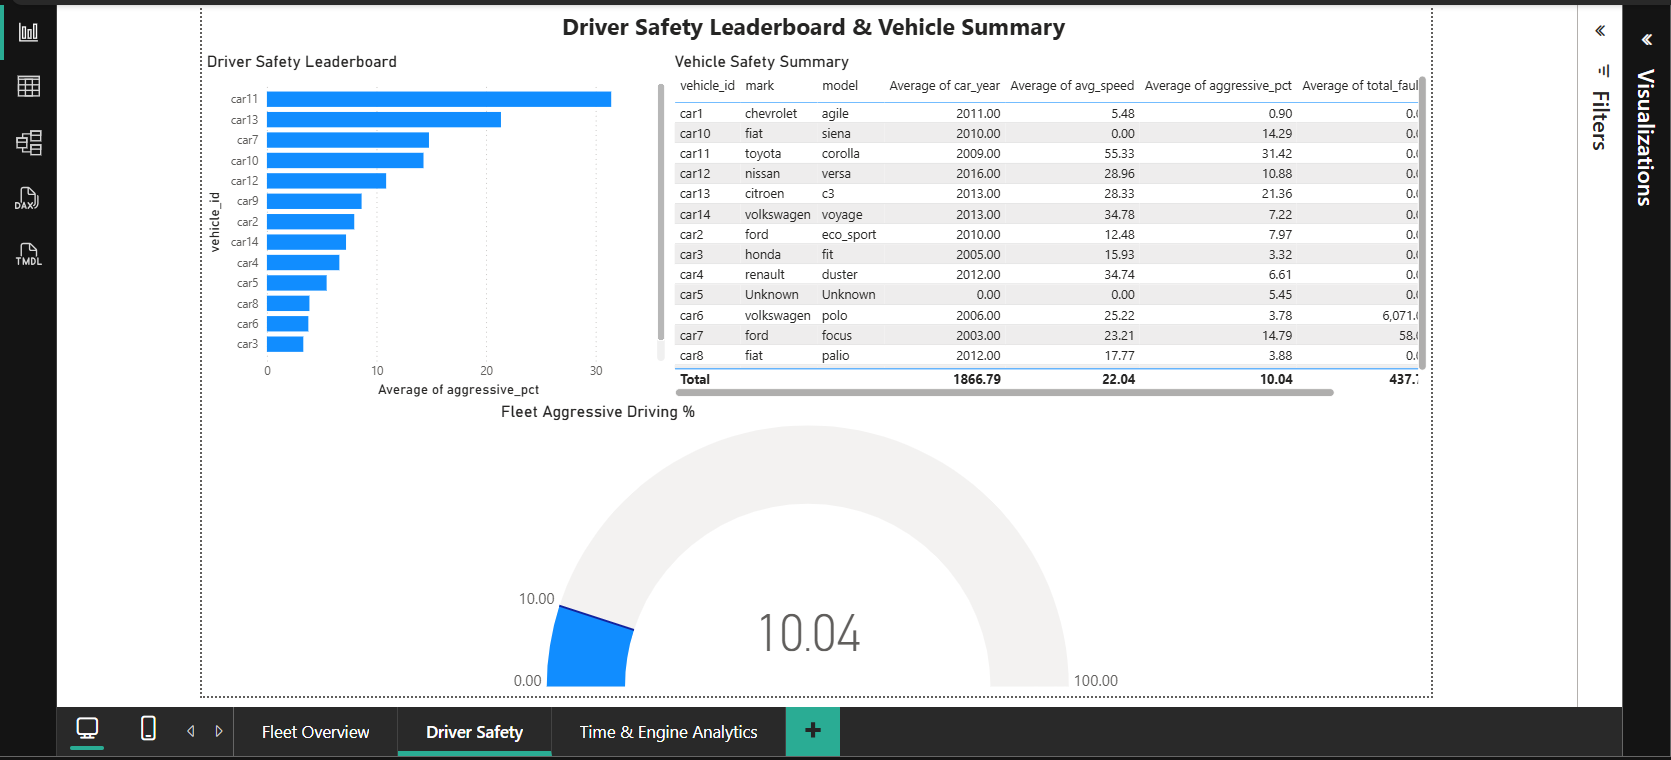

Layout of this report page (visuals, bound fields, positions):
{"tool":"powerbi","page":{"name":"Driver Safety","canvas":[1280,720],"ordinal":1},"visuals":[{"type":"clusteredBarChart","title":"Driver Safety Leaderboard","fields":{"Category":["obd_driver_db driver_safety_summary.vehicle_id"],"Y":["Avg(obd_driver_db driver_safety_summary.aggressive_pct)"]},"box":[0,49.1,487.1,364.2],"z":0},{"type":"tableEx","title":"Vehicle Safety Summary","fields":{"Values":["obd_driver_db driver_safety_summary.vehicle_id","obd_driver_db driver_safety_summary.mark","obd_driver_db driver_safety_summary.model","Avg(obd_driver_db driver_safety_summary.car_year)","Avg(obd_driver_db driver_safety_summary.avg_speed)","Avg(obd_driver_db driver_safety_summary.aggressive_pct)","Avg(obd_driver_db driver_safety_summary.total_faults)","obd_driver_db driver_safety_summary.safety_label"]},"box":[487.1,49.1,793.5,364.2],"z":1000},{"type":"gauge","title":"Fleet Aggressive Driving %","fields":{"Y":["Avg(obd_driver_db driver_safety_summary.aggressive_pct)"]},"box":[306.4,413.4,666.3,306.4],"z":2000},{"type":"textbox","box":[370,0,543.4,49.1],"z":3000}]}

Visuals, with their boxes on the page's 1280x720 design canvas (x1, y1, x2, y2). These are canvas units, not pixel positions in the 1671x760 screenshot, which may show the page scaled, cropped or inside an application window:
"Driver Safety Leaderboard" clusteredBarChart: [0,49,487,413]
"Vehicle Safety Summary" tableEx: [487,49,1281,413]
"Fleet Aggressive Driving %" gauge: [306,413,973,720]
textbox: [370,0,913,49]
